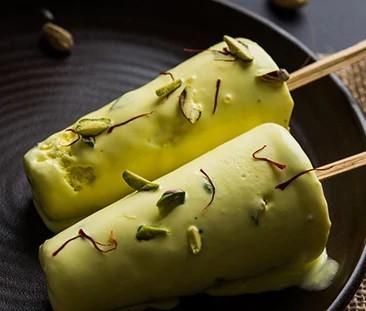Kulfi: (39, 122, 332, 311), (20, 36, 295, 230)
